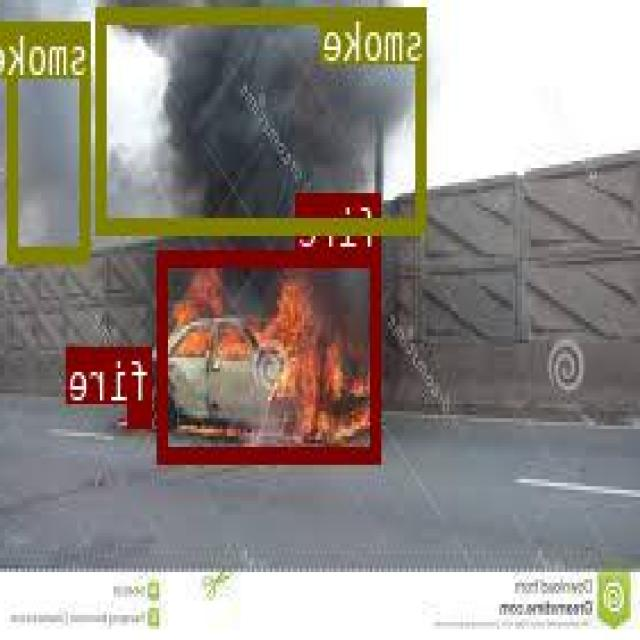fire: (159, 248, 382, 459), (130, 402, 154, 422)
smoke: (99, 4, 429, 230), (10, 21, 91, 258)
